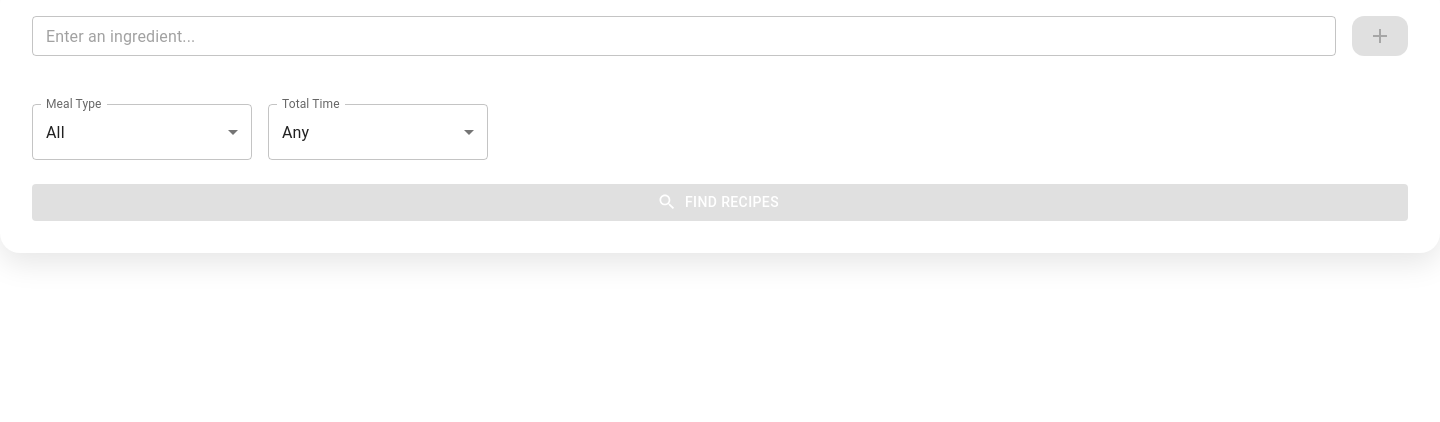
Scenario: RecipePredictionForm › changes total time when selecting from dropdown
This screenshot has width=1440, height=422.
Press the mouse on the dropdown named "Total Time" at (296,132), box [282, 122, 309, 142]
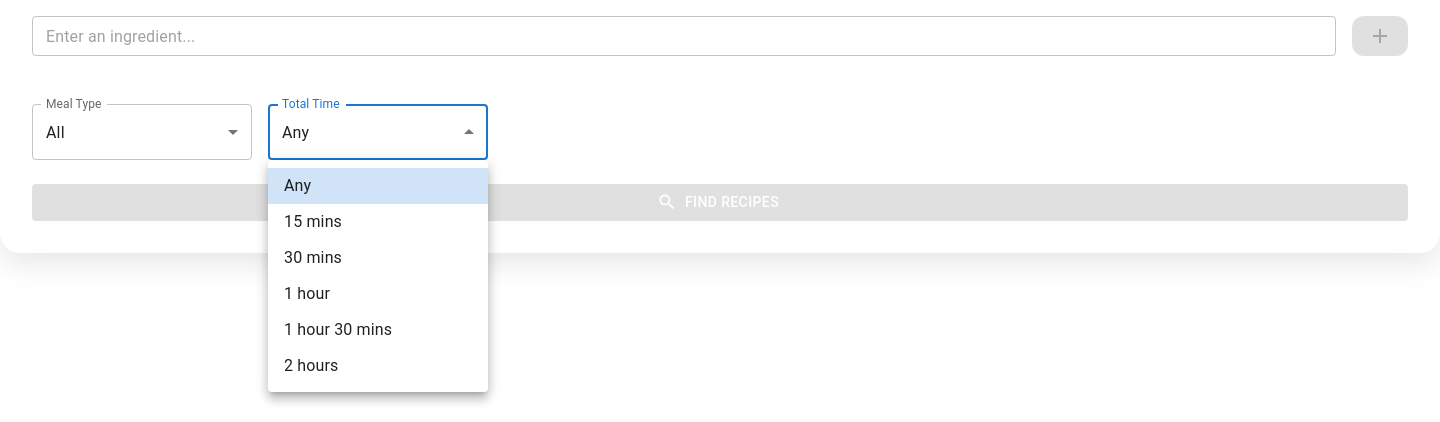
Click the option "30 mins". click: (313,258)
box: [284, 248, 342, 267]
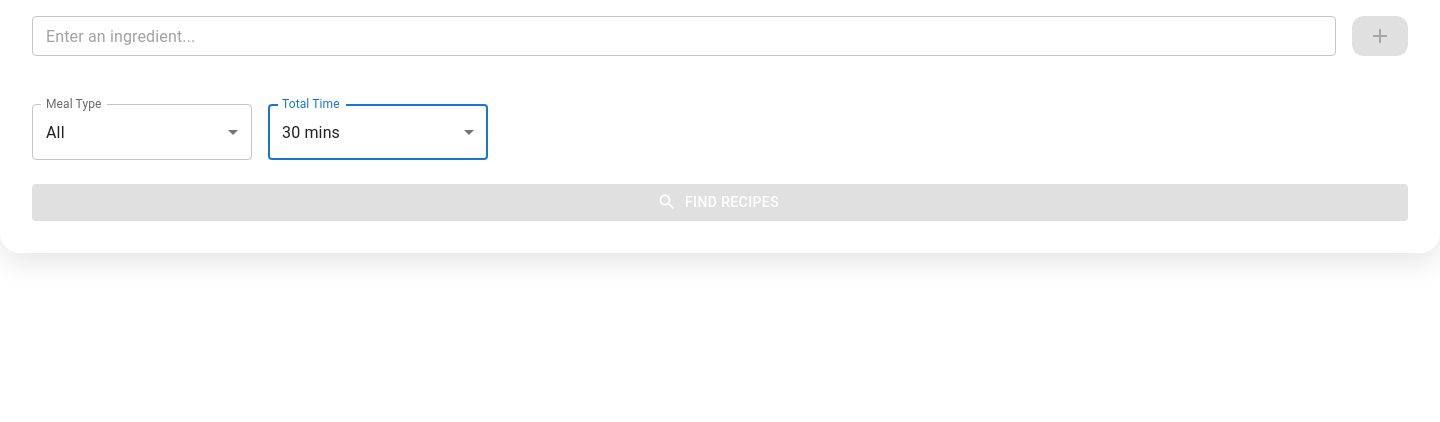
Expected: the dropdown named "Total Time" reads "30 mins", [282, 122, 340, 142]
